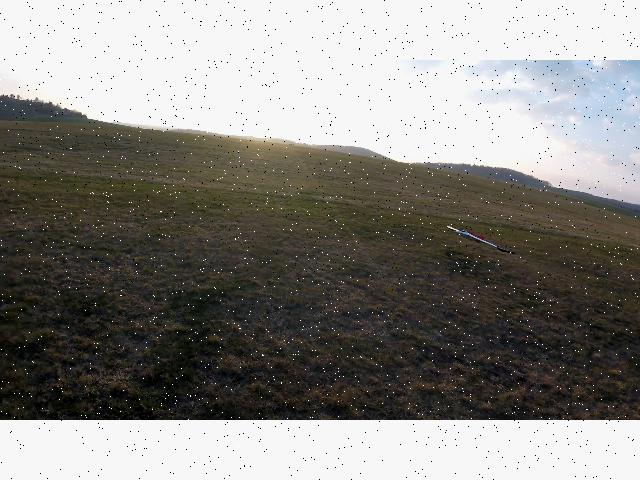Anti-Drone: (448, 226, 516, 254)
